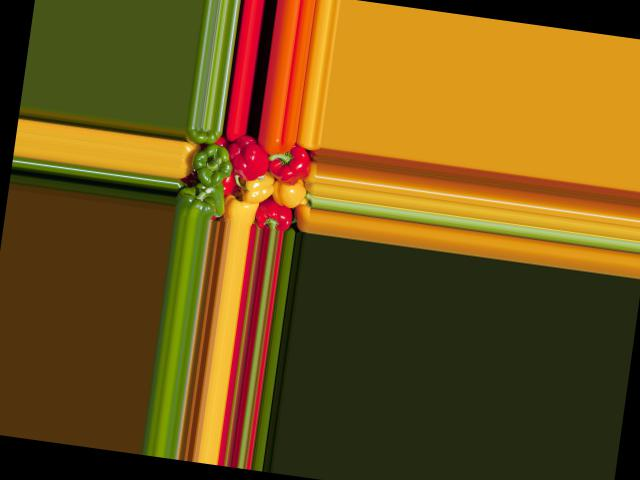bell_pepper: (183, 125, 222, 151)
